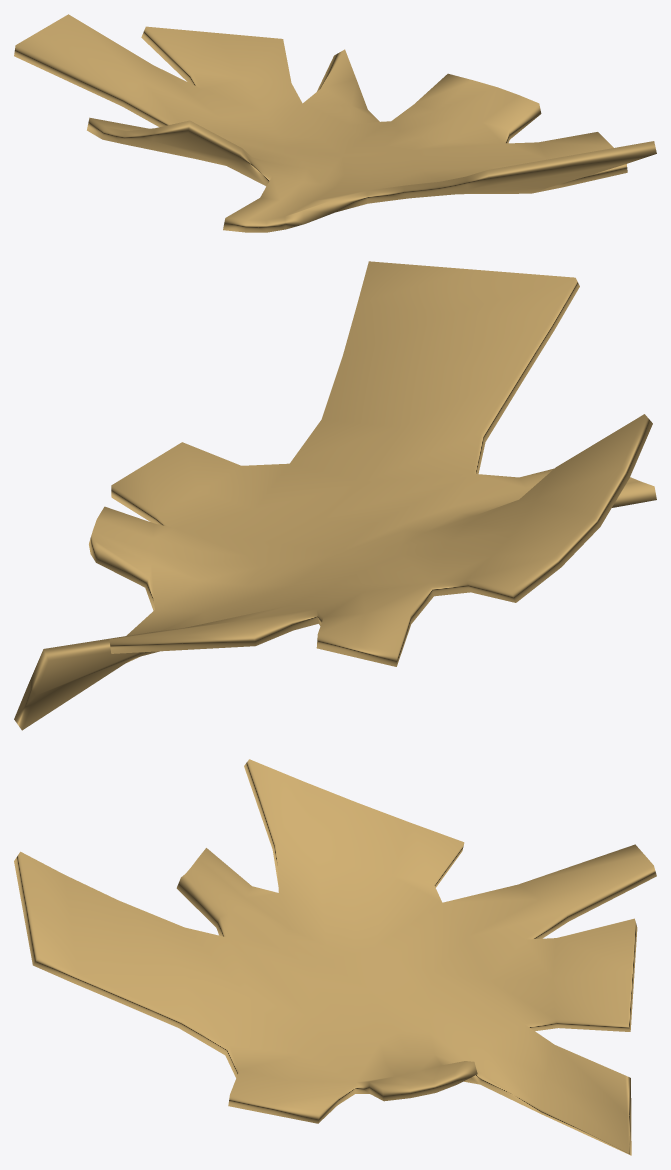
3 views of the same model, one above another, from view 1: azimuth 30°, elevation 25°; view 2: azimuth 150°, elevation 25°; view 3: azimuth 270°, elevation 25° (orthographic). The views are drawn at different scales.
Visible parts, largest first — view 1: 左侧腕辐状韧带; view 2: 左侧腕辐状韧带; view 3: 左侧腕辐状韧带.
Boxes of the visible parts, x1,y1,x2,y2 form: 左侧腕辐状韧带: [14, 14, 656, 232]; 左侧腕辐状韧带: [14, 261, 656, 730]; 左侧腕辐状韧带: [14, 759, 656, 1155].
Bounding box in the file's own units: 0.0296 × 0.0142 × 0.037.
